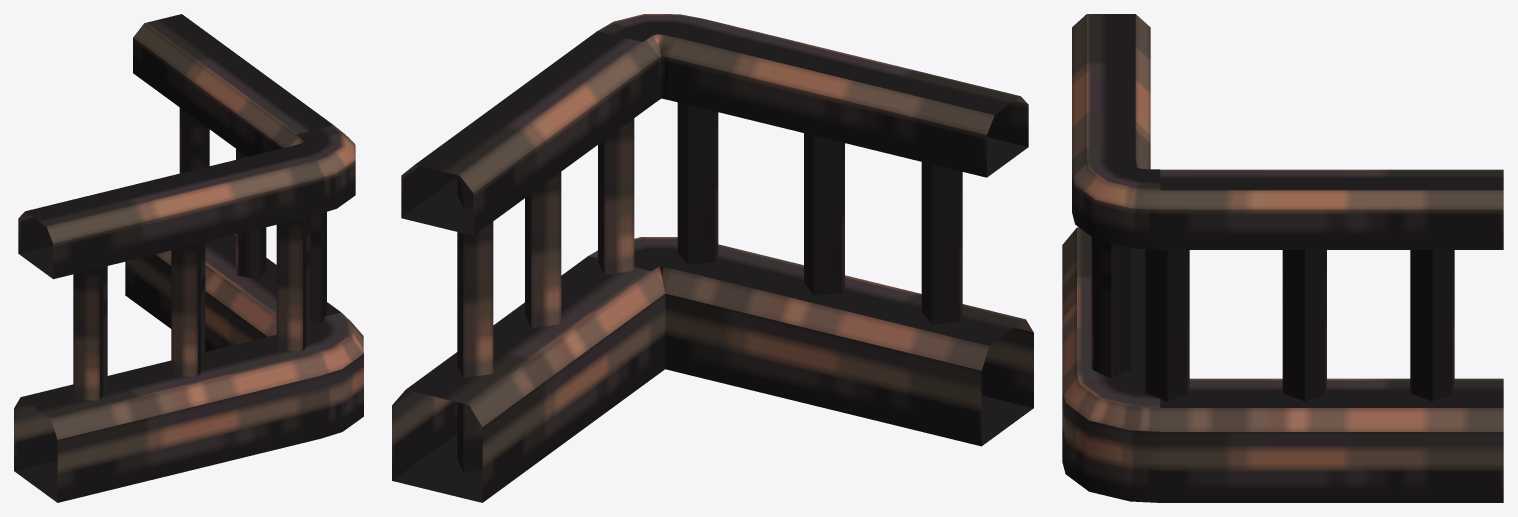
File: EnvBdgMD_Factory_B_Fenece_A_CoOunt_RB.FBX
3 views of the same model, side by side, from view 1: azimuth 30°, elevation 25°; view 2: azimuth 150°, elevation 25°; view 3: azimuth 270°, elevation 25° (orthographic). The views are drawn at different scales.
Visible parts, largest first — view 1: EnvBdgMD_Factory_B_Fenece_A_CoOunt_RB; view 2: EnvBdgMD_Factory_B_Fenece_A_CoOunt_RB; view 3: EnvBdgMD_Factory_B_Fenece_A_CoOunt_RB.
Boxes of the visible parts, x1=… form: EnvBdgMD_Factory_B_Fenece_A_CoOunt_RB: x1=14, y1=14, x2=363, y2=502; EnvBdgMD_Factory_B_Fenece_A_CoOunt_RB: x1=392, y1=14, x2=1033, y2=502; EnvBdgMD_Factory_B_Fenece_A_CoOunt_RB: x1=1062, y1=14, x2=1503, y2=502.
Size of the model in its own units: 113 by 85 by 113.
